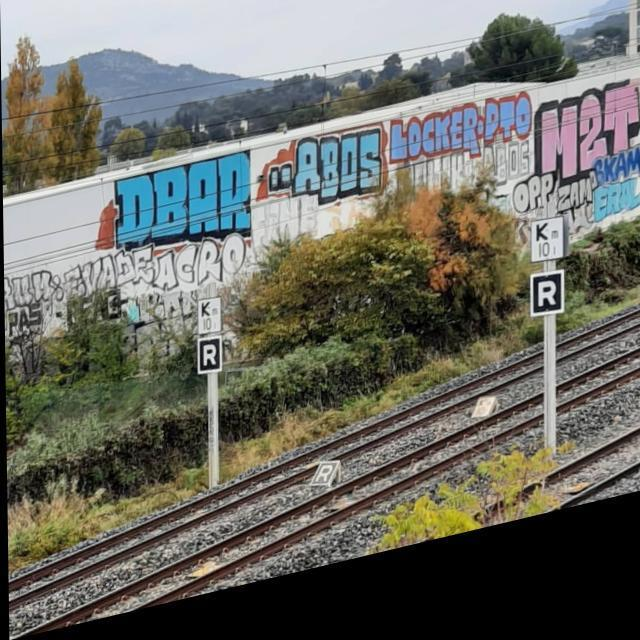-: (3, 224, 248, 334), (112, 157, 252, 273), (388, 112, 534, 201), (264, 133, 385, 240), (532, 104, 640, 212), (591, 178, 640, 253), (509, 193, 556, 244), (556, 202, 594, 237)
